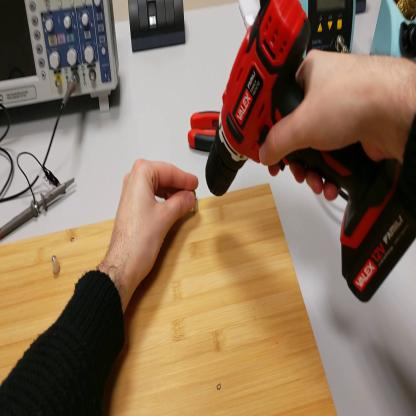electric screwdriver: (206, 1, 416, 305)
hand: (261, 48, 395, 188), (109, 157, 199, 285)
oscilloscope: (2, 1, 118, 123)
oscilloscope probe tip: (3, 175, 81, 244)
pliers: (186, 107, 222, 149)
socket: (356, 3, 369, 16)
welder base: (372, 1, 415, 60)
welder station: (304, 3, 354, 56)
working area: (1, 186, 338, 416)
